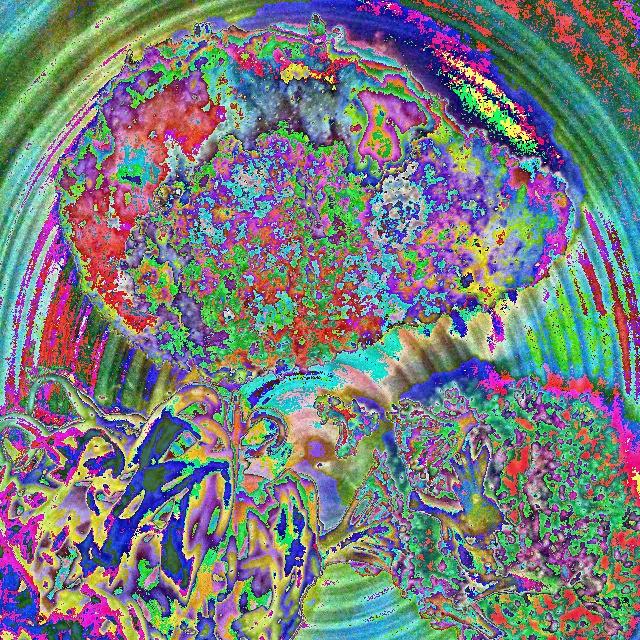background: (0, 13, 640, 639), (66, 65, 379, 459)
